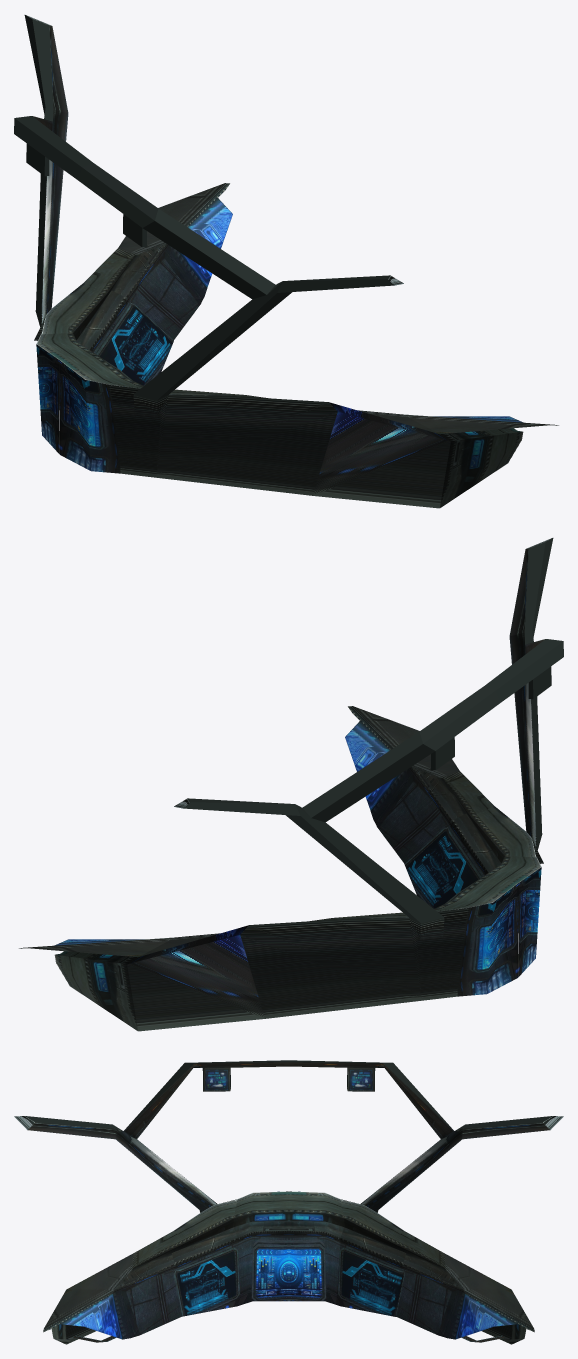
Rendered from spaceshipInside.obj.
The picture shows the model from 3 angles, top to bottom: view 1: azimuth 30°, elevation 25°; view 2: azimuth 150°, elevation 25°; view 3: azimuth 270°, elevation 25°; orthographic projection. The views are drawn at different scales.
Parts seen in each view (by area): view 1: Cube; view 2: Cube; view 3: Cube.
Part boxes in pixels (x1,y1,x2,y2): Cube: [14, 15, 558, 508]; Cube: [19, 538, 563, 1031]; Cube: [14, 1060, 563, 1344].
Size of the model in its own units: 18.33 by 14.72 by 34.75.
1 material, 1 textured.
